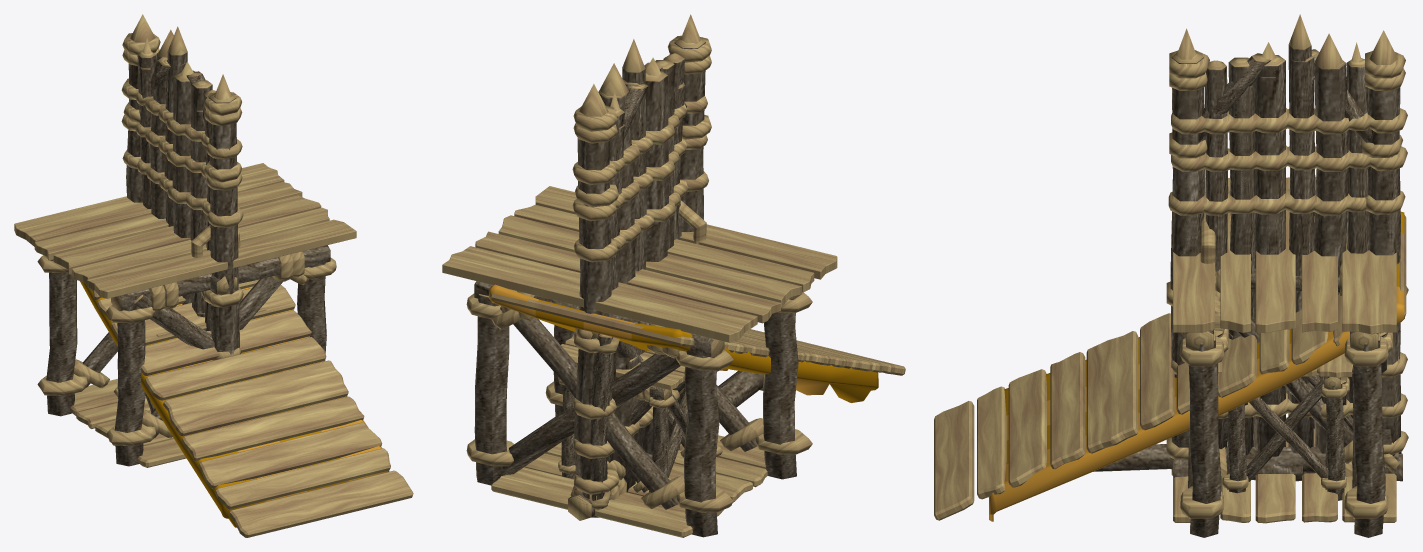
File: palisade.glb
3 renders of one model, left to right at view 1: azimuth 30°, elevation 25°; view 2: azimuth 150°, elevation 25°; view 3: azimuth 270°, elevation 25°, orthographic. The views are drawn at different scales.
Visible parts, largest first — view 1: RoughTable, RoughPlanksRamp, StickWallDoorSwing, StickWall, StickWallWindow, Palisade, CanvasRoofGold, RoughPlanks, StickWallSupport, StickWallSquare; view 2: RoughTable, StickWallDoorSwing, RoughPlanks, CanvasRoofGold, RoughStool, RoughPlanksRamp, Palisade, StickWallSupport, StickWallGable, StickWall, StickWallSquare, StickWallWindow; view 3: RoughTable, RoughPlanksRamp, StickWallDoorSwing, StickWall, CanvasRoofGold, StickWallWindow, RoughStool, Palisade, RoughPlanks, StickWallSupport, StickWallSquare, StickWallGable.
Part boxes in pixels (x1,y1,x2,y2): RoughTable: (14, 163, 356, 466); RoughPlanksRamp: (86, 279, 413, 537); StickWallDoorSwing: (121, 51, 242, 360); StickWall: (130, 51, 237, 325); StickWallWindow: (122, 65, 243, 354); Palisade: (130, 14, 231, 218); CanvasRoofGold: (80, 281, 389, 527); RoughPlanks: (70, 378, 186, 467); StickWallSupport: (122, 33, 242, 182); StickWallSquare: (201, 274, 243, 354); RoughTable: (442, 186, 837, 537); StickWallDoorSwing: (572, 40, 707, 517); RoughPlanks: (491, 435, 767, 537); CanvasRoofGold: (488, 284, 878, 402); RoughStool: (558, 335, 722, 492); RoughPlanksRamp: (490, 293, 905, 375); Palisade: (579, 14, 705, 227); StickWallSupport: (573, 35, 711, 207); StickWallGable: (570, 329, 764, 510); StickWall: (602, 47, 699, 483); StickWallSquare: (568, 328, 684, 520); StickWallWindow: (573, 37, 708, 502); RoughTable: (1173, 177, 1396, 537); RoughPlanksRamp: (934, 214, 1406, 520); StickWallDoorSwing: (1171, 51, 1407, 456); StickWall: (1172, 56, 1390, 456); CanvasRoofGold: (989, 211, 1404, 521); StickWallWindow: (1168, 52, 1405, 453); RoughStool: (1218, 353, 1351, 500); Palisade: (1172, 14, 1397, 223); RoughPlanks: (1173, 417, 1396, 523); StickWallSupport: (1169, 49, 1405, 158); StickWallSquare: (1166, 264, 1408, 481); StickWallGable: (1093, 322, 1402, 471).
Bounding box in the file's own units: 1.55 × 2.28 × 2.06.
Materials: 7 (3 with a texture image).
